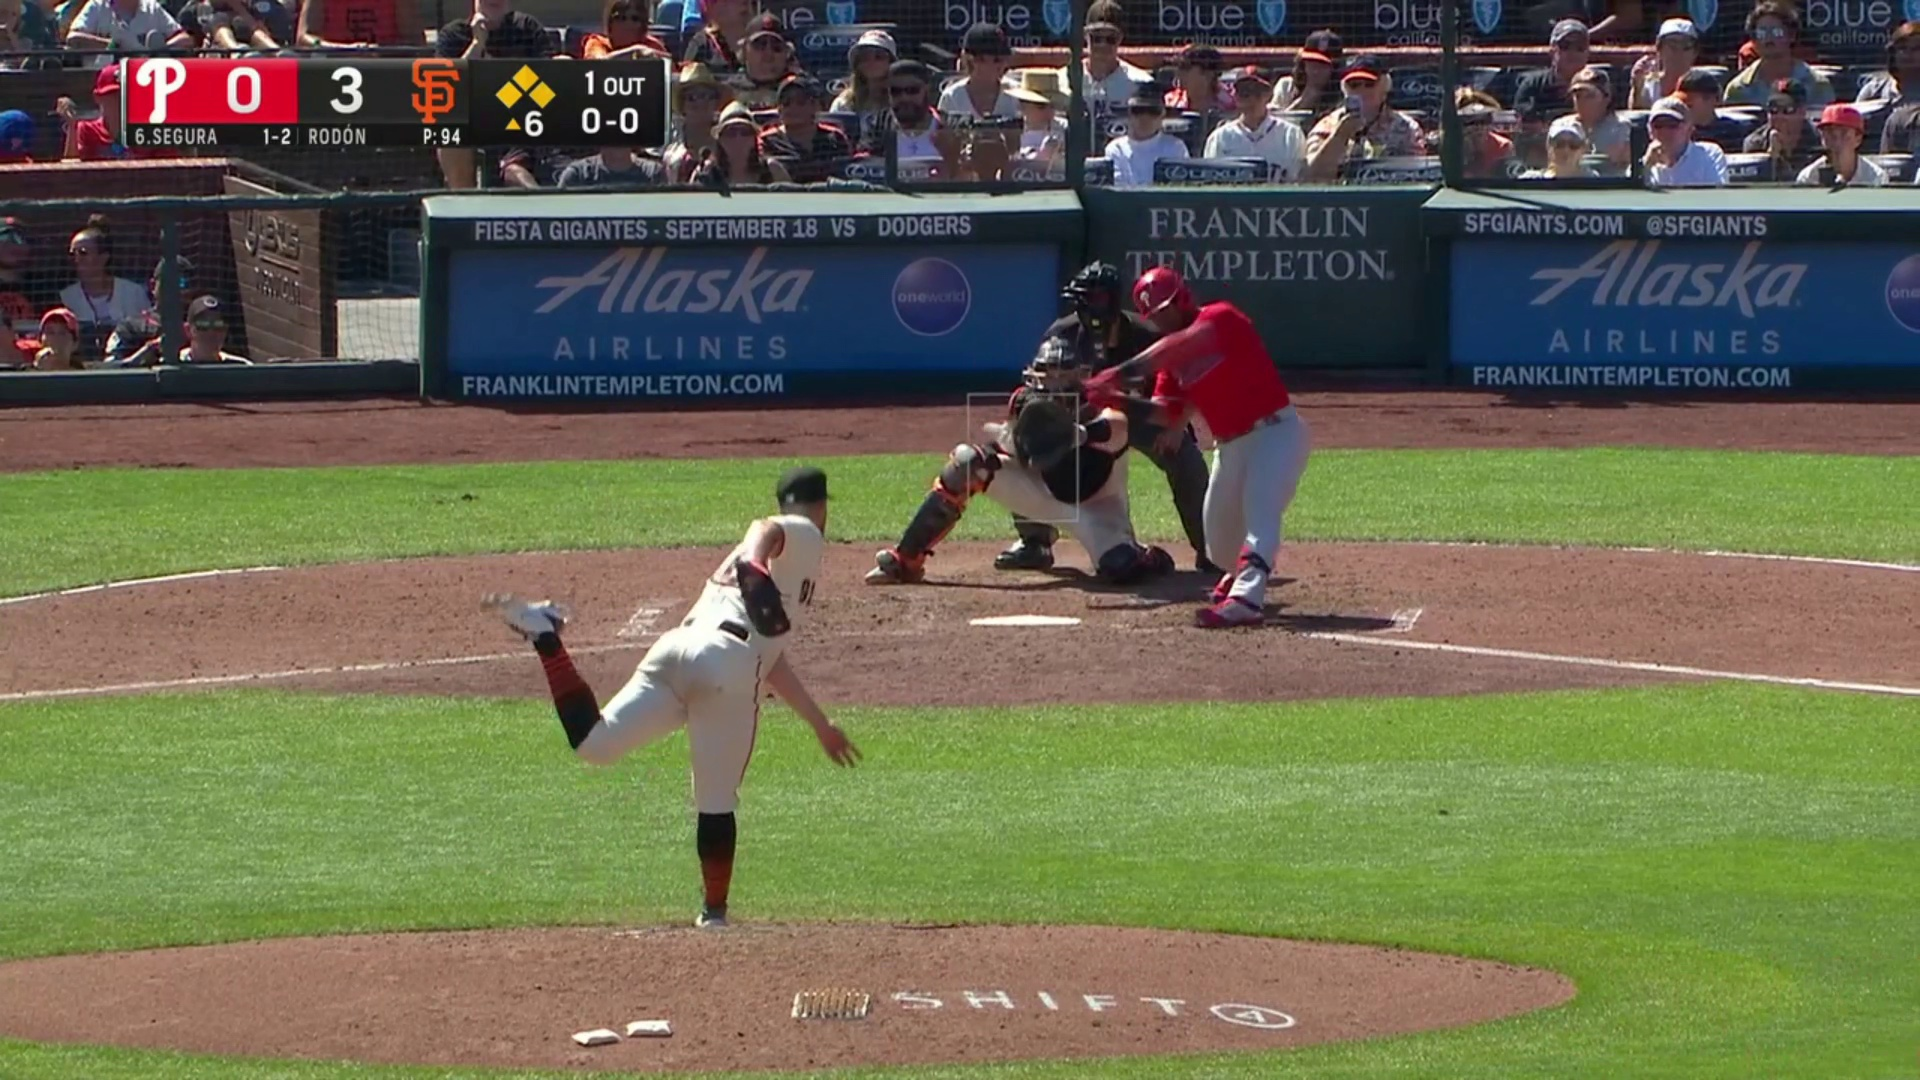baseball: (981, 421, 1001, 436)
